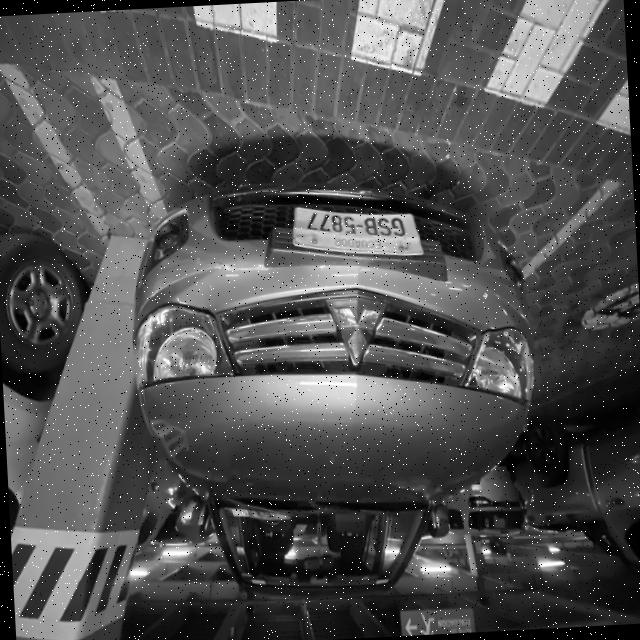Placa: (292, 207, 422, 254)
